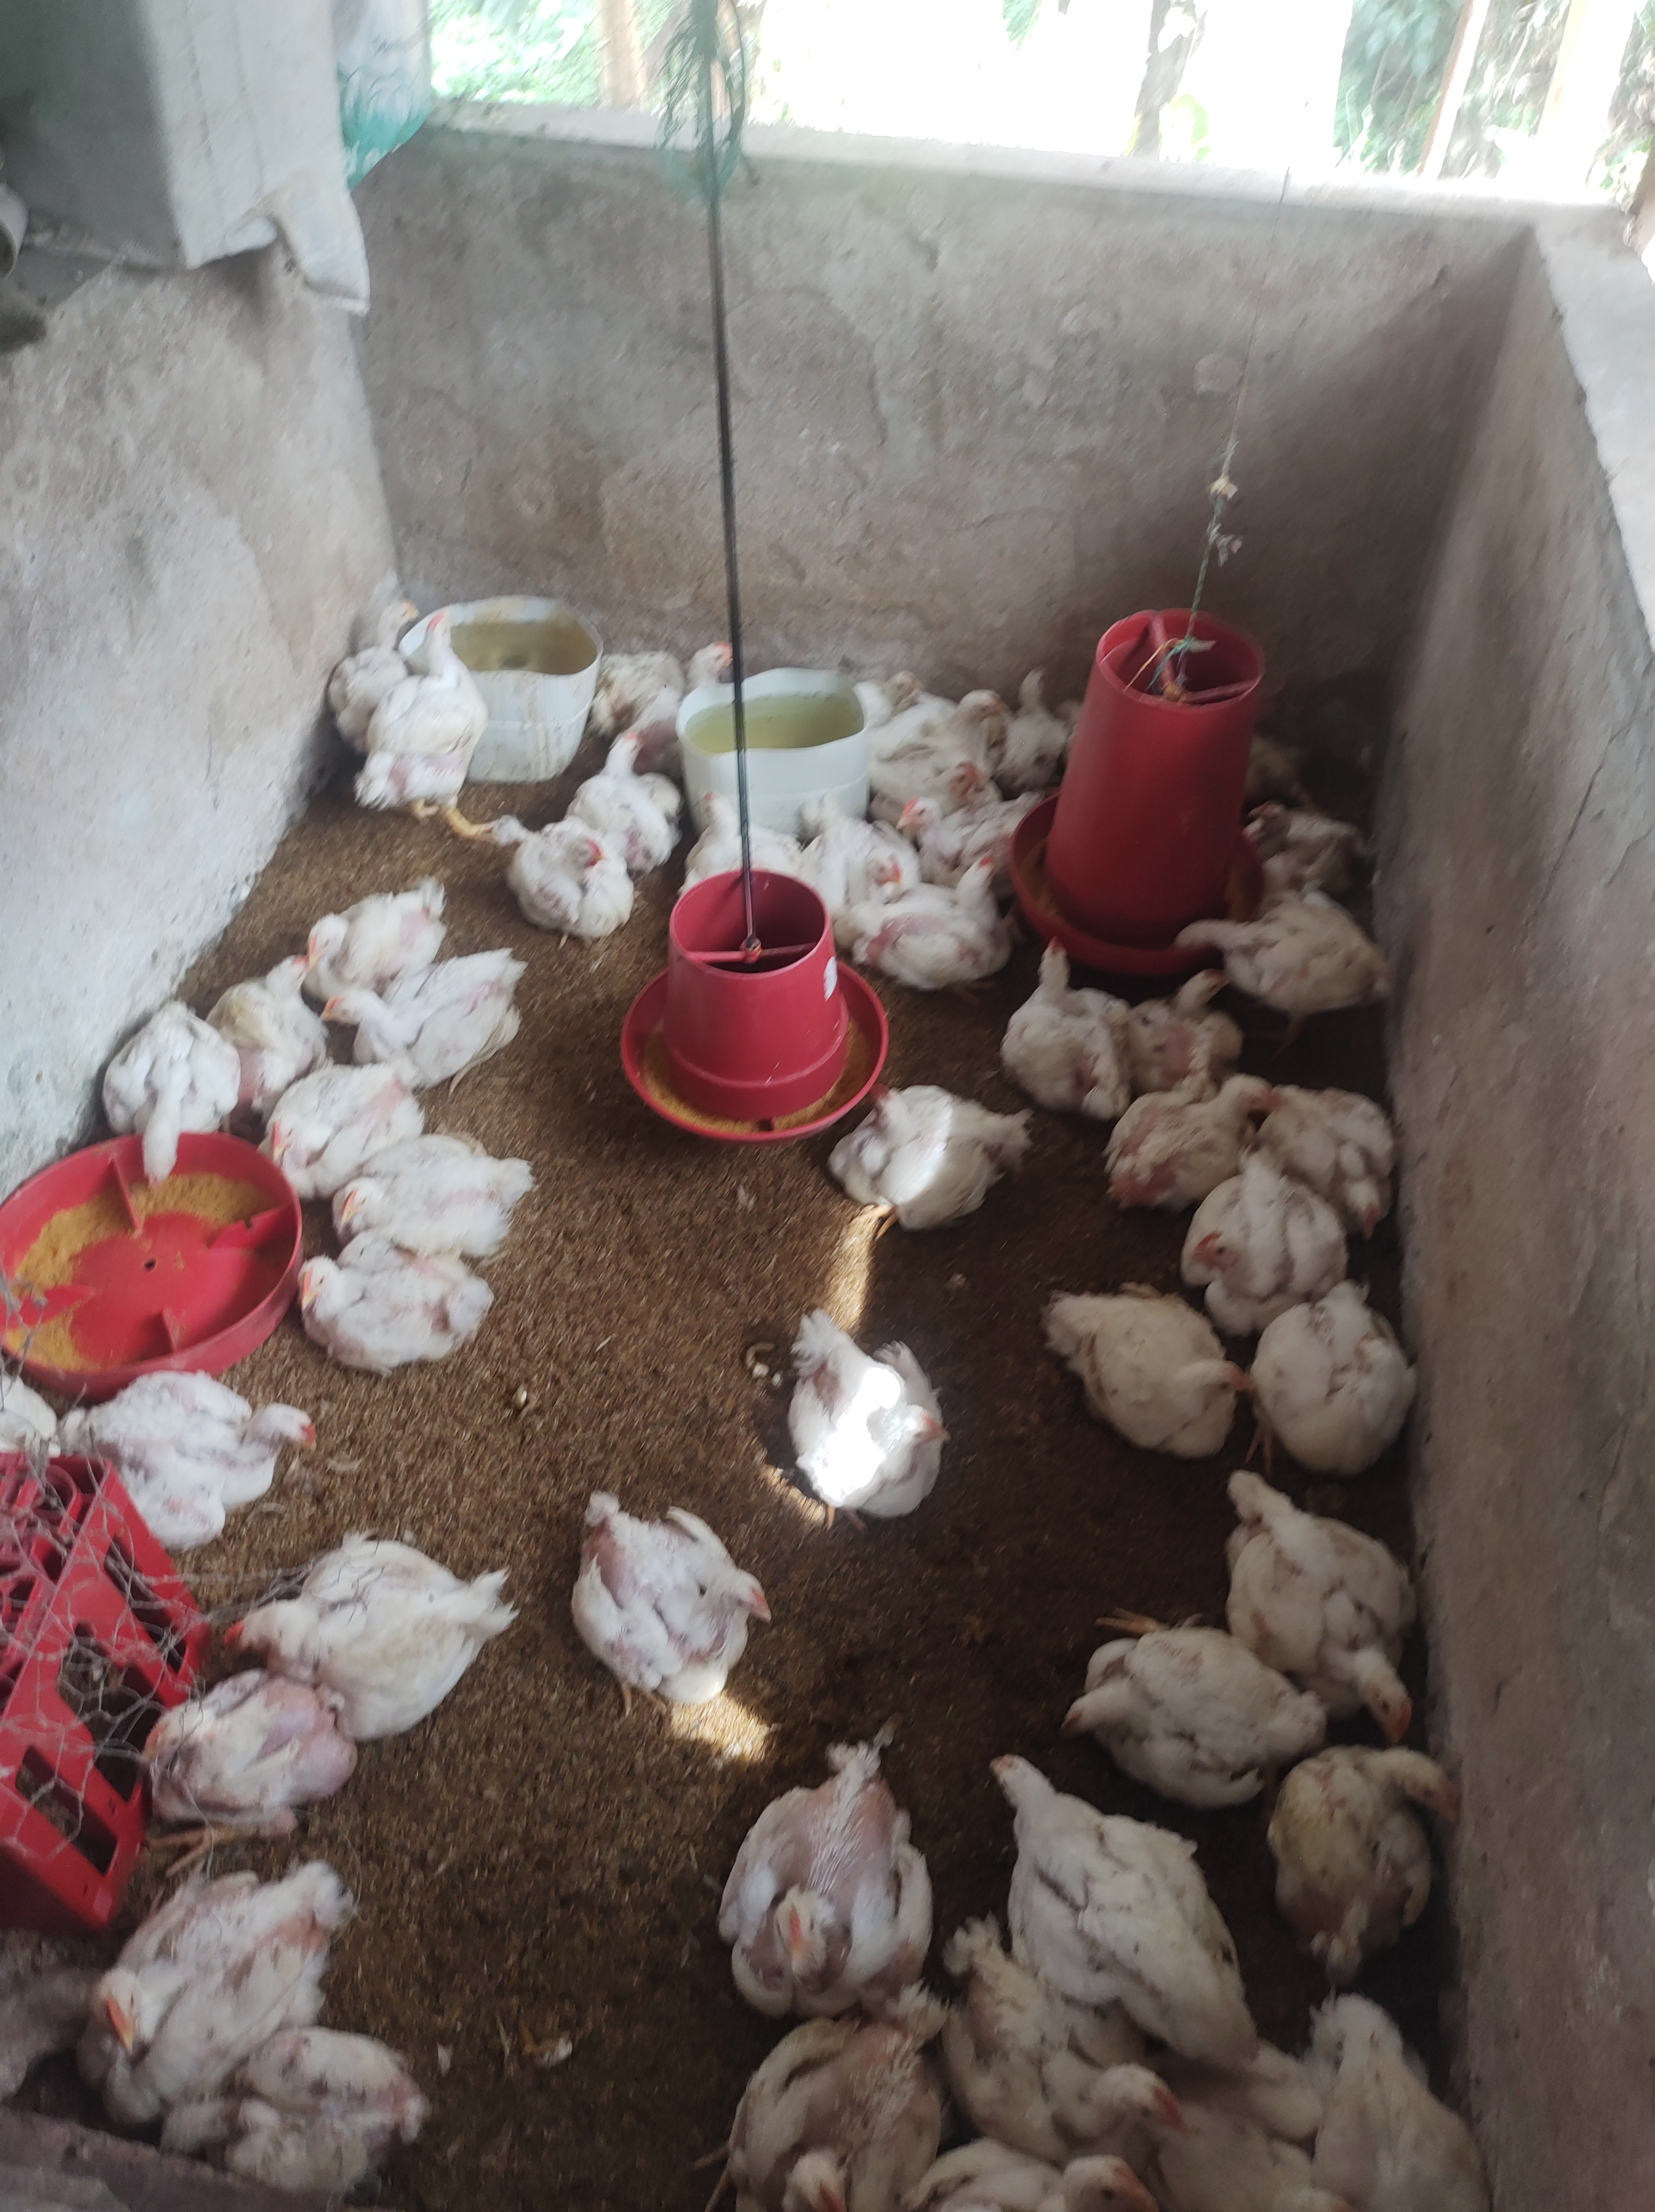Pollos: (33, 1850, 381, 2127), (987, 1741, 1262, 2038), (694, 1965, 937, 2212), (939, 1906, 1182, 2141), (1043, 1584, 1313, 1793), (1233, 1459, 1469, 1694), (721, 1749, 930, 2012), (1281, 1701, 1471, 1975), (223, 1525, 509, 1701), (59, 1356, 313, 1549), (113, 1642, 356, 1821), (572, 1480, 756, 1715), (777, 1294, 963, 1522), (209, 2021, 442, 2188), (1316, 1972, 1478, 2212), (1048, 1257, 1238, 1456), (264, 1231, 509, 1381), (833, 1064, 1031, 1245), (1233, 1280, 1413, 1471), (308, 934, 546, 1075), (1175, 887, 1396, 1029), (82, 1005, 240, 1186), (1184, 1129, 1339, 1309), (362, 614, 490, 817), (1288, 1043, 1432, 1223), (508, 809, 652, 976), (1000, 920, 1116, 1125), (169, 934, 322, 1082), (294, 569, 426, 737), (318, 1132, 530, 1236), (1100, 1068, 1264, 1195), (937, 2116, 1151, 2212), (263, 1057, 405, 1198), (869, 859, 1017, 984), (659, 767, 800, 892), (1090, 949, 1231, 1071), (791, 783, 904, 929), (313, 859, 438, 981), (635, 619, 754, 732), (579, 734, 687, 856), (1245, 788, 1365, 878), (895, 793, 1022, 861), (944, 673, 1012, 756), (913, 760, 989, 809), (1012, 670, 1071, 725), (869, 664, 930, 715)
